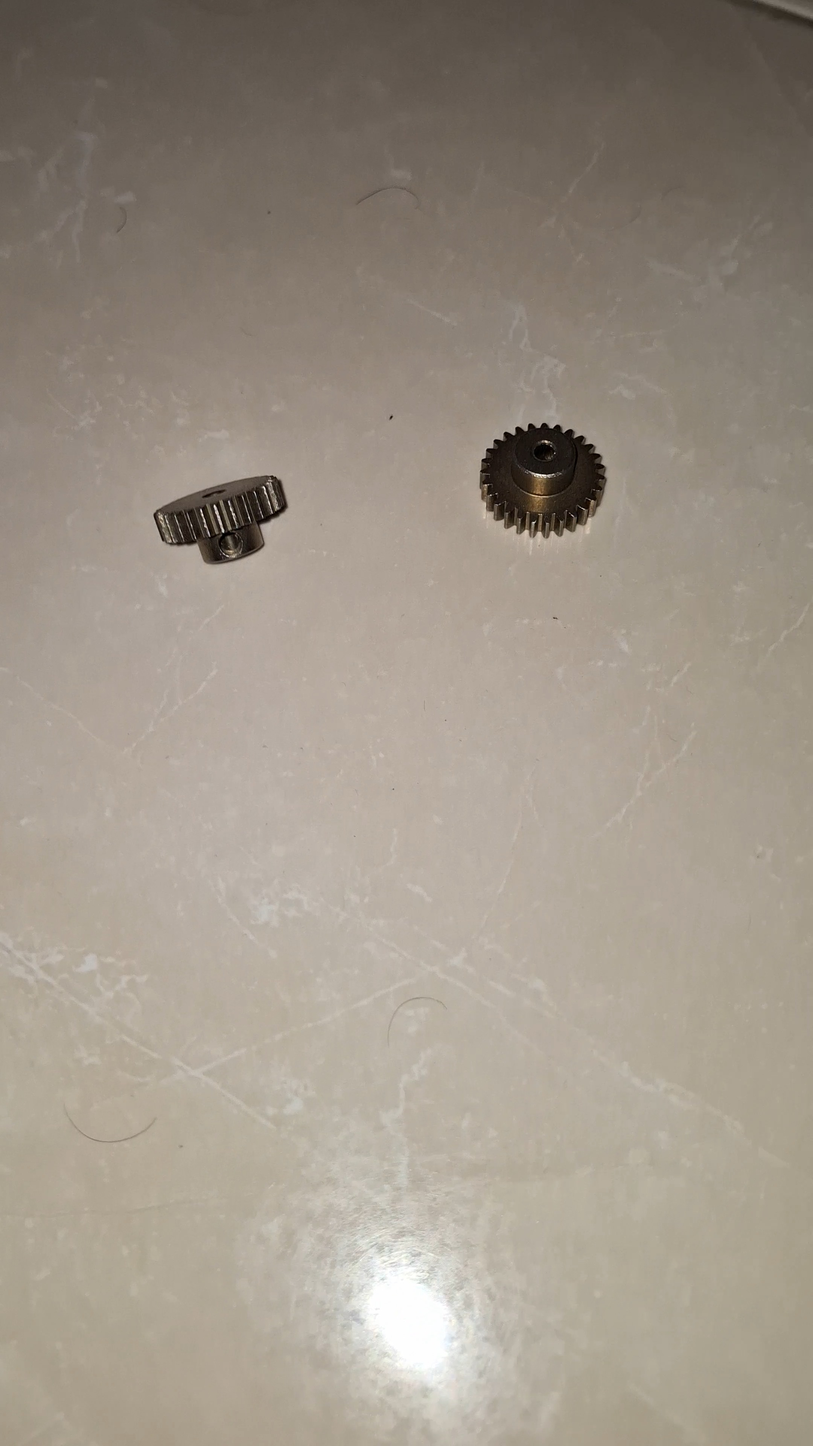spur gear: (480, 425, 605, 537), (155, 476, 286, 563)
